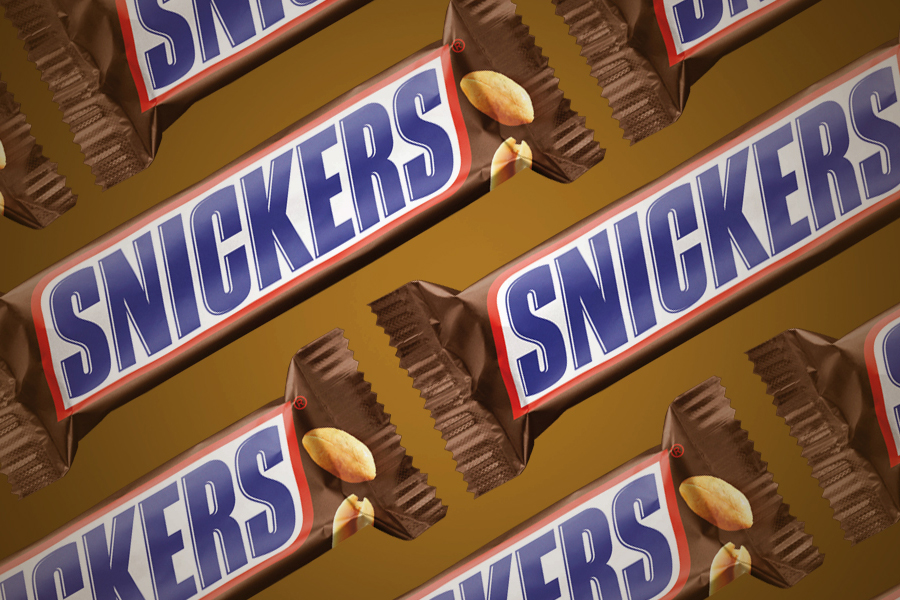snickers: (46, 65, 450, 395), (504, 60, 897, 394), (504, 64, 898, 394), (0, 419, 294, 598), (428, 465, 671, 598), (428, 465, 664, 598), (428, 471, 673, 598)
